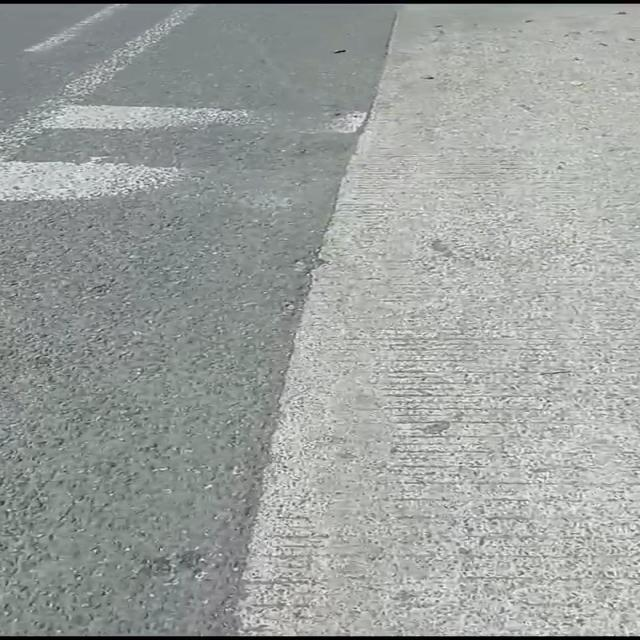Sambungan: (230, 0, 640, 640)
